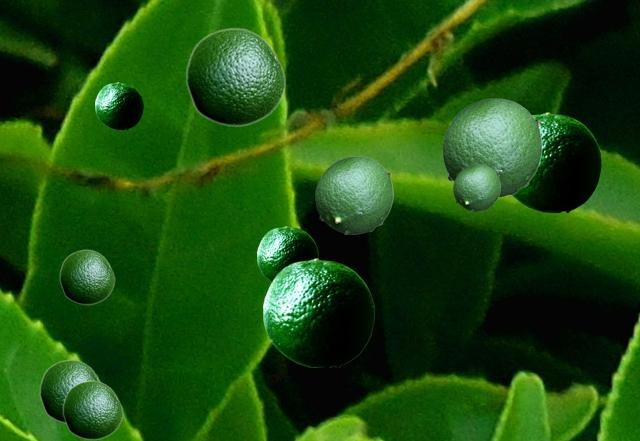calamansi: (263, 258, 373, 366), (185, 27, 285, 126), (442, 98, 541, 197), (512, 112, 600, 211), (315, 156, 392, 233), (39, 359, 100, 423), (62, 380, 122, 439), (257, 226, 317, 281), (59, 249, 114, 304), (95, 82, 142, 128), (453, 164, 499, 210)
